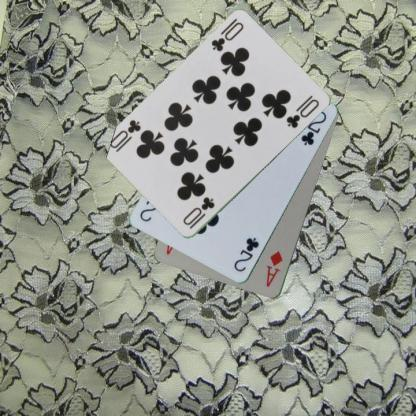10c: (180, 195, 216, 231), (208, 20, 246, 53)
2c: (231, 235, 261, 273)
Ad: (264, 248, 284, 289)
